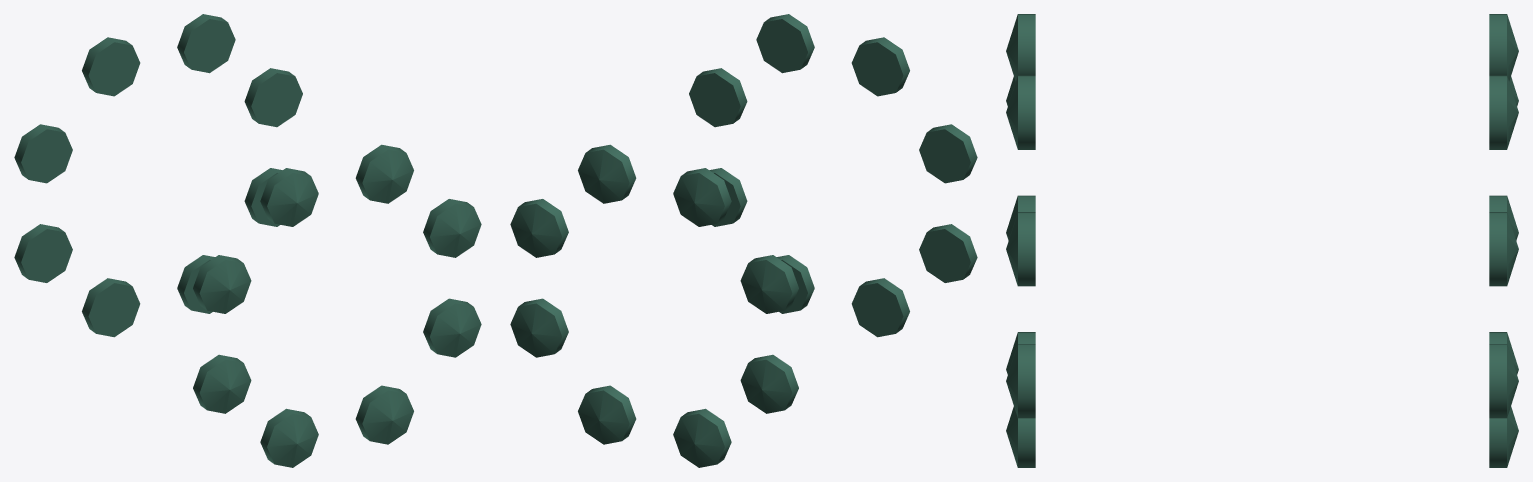
Rendered from h80_dampers.obj.
3 views of the same model, side by side, from view 1: azimuth 30°, elevation 25°; view 2: azimuth 150°, elevation 25°; view 3: azimuth 270°, elevation 25° (orthographic). The views are drawn at different scales.
Visible parts, largest first — view 1: h80_dampers; view 2: h80_dampers; view 3: h80_dampers.
Part boxes in pixels (x1,y1,x2,y2): h80_dampers: (14,14,481,467); h80_dampers: (510,14,977,467); h80_dampers: (1006,14,1518,467).
Bounding box in the file's own units: 4.11 × 4.11 × 4.9.
